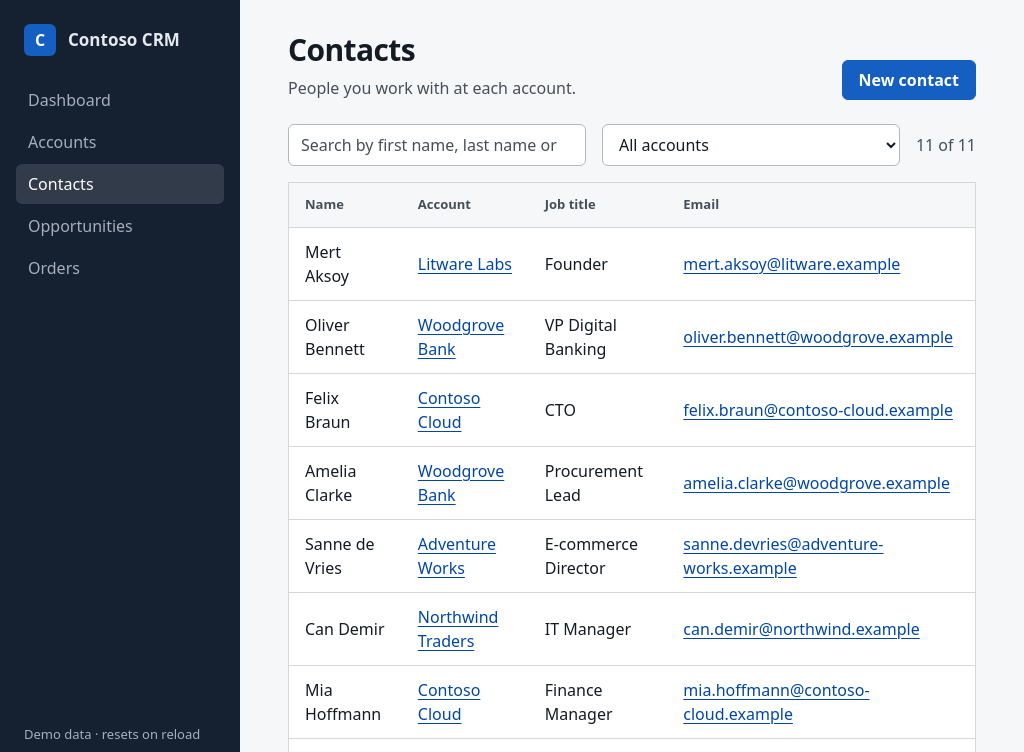
Scenario: Contacts › searches contact names and email with FABRIKAM
This screenshot has width=1024, height=752.
Type "FABRIKAM" into the search field named "Search contacts" at (437, 145), box x1=288 y1=124 x2=586 y2=166
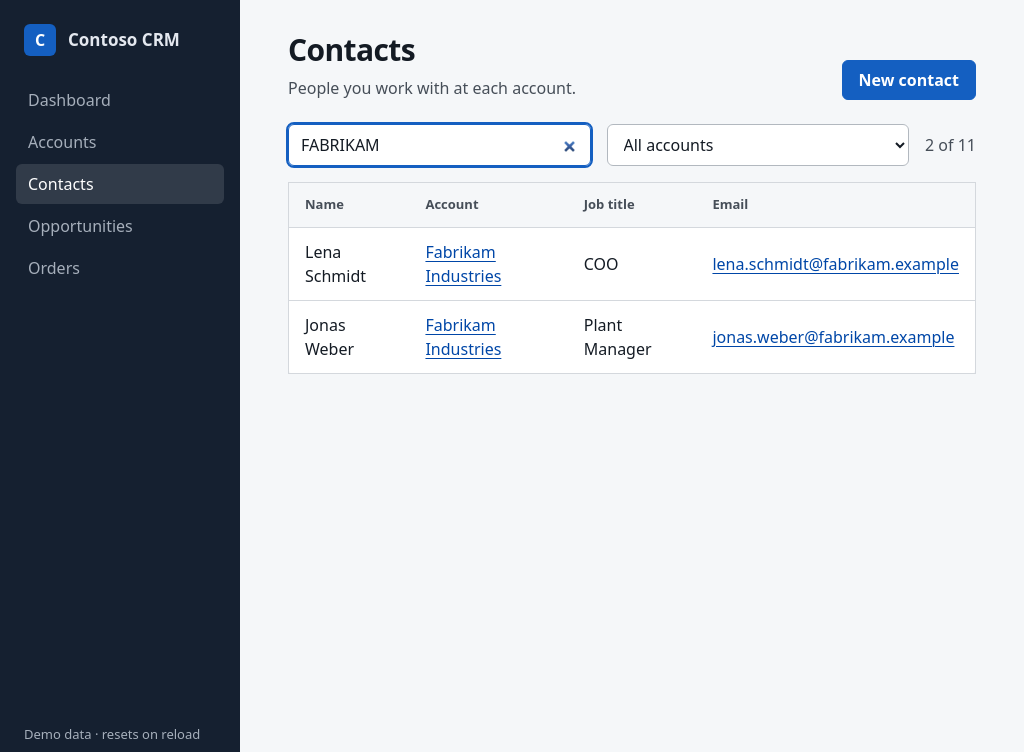
Check: the text "2 of 11" is shown, box x1=925 y1=133 x2=976 y2=157
